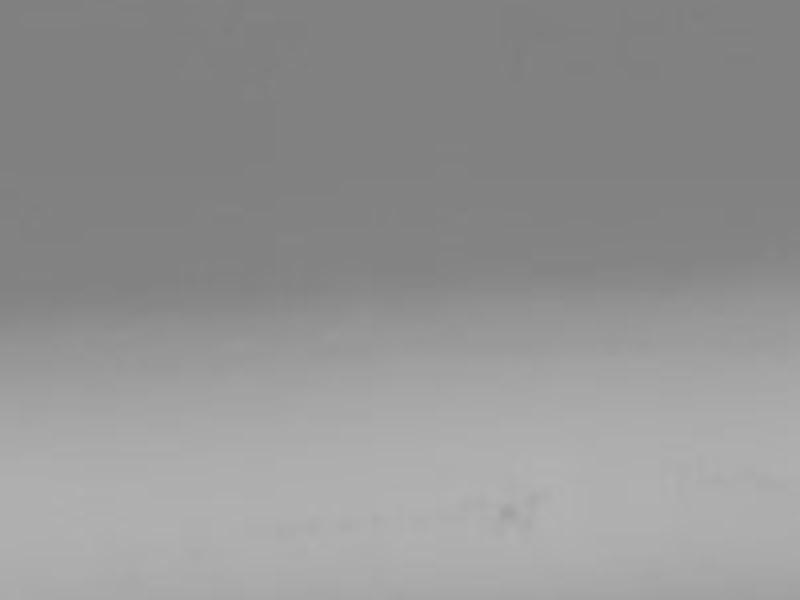defect: (498, 498, 518, 520), (521, 486, 542, 503), (517, 516, 535, 535)
